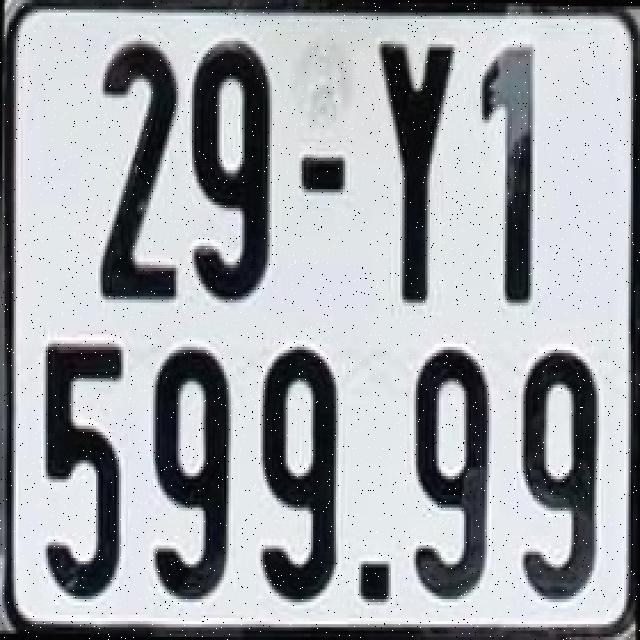1: (474, 40, 550, 308)
2: (92, 35, 182, 302)
5: (38, 334, 127, 599)
9: (185, 33, 279, 304), (254, 338, 345, 606), (406, 338, 495, 606), (512, 342, 603, 604), (147, 339, 236, 604)
Y: (374, 31, 458, 306)
